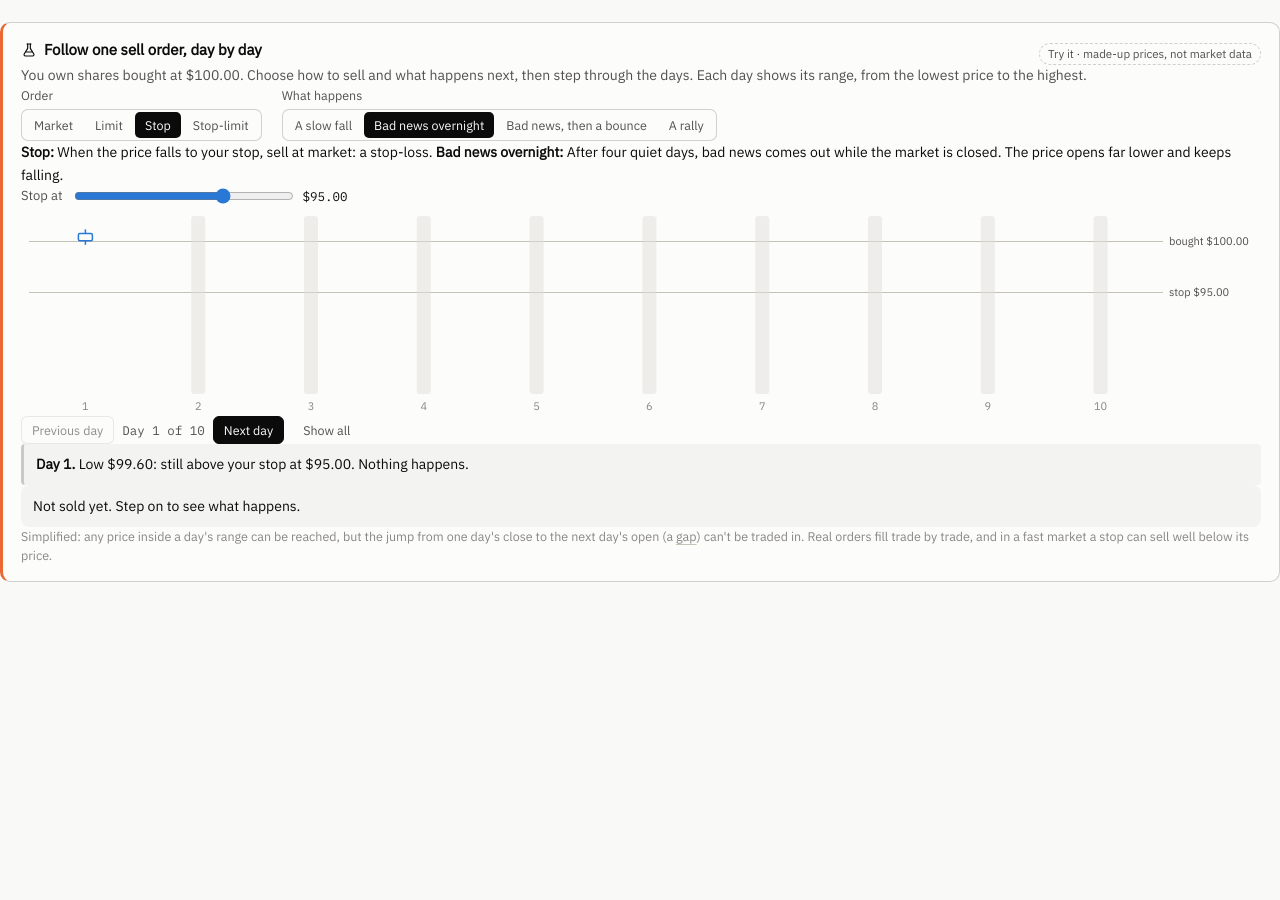
Test: following one sell order › a limit order waits for its price
What coordinates should you click on to do the following:
click the button "Limit"
I would click on:
 (109, 125)
Its box is left=85, top=112, right=133, bottom=138.
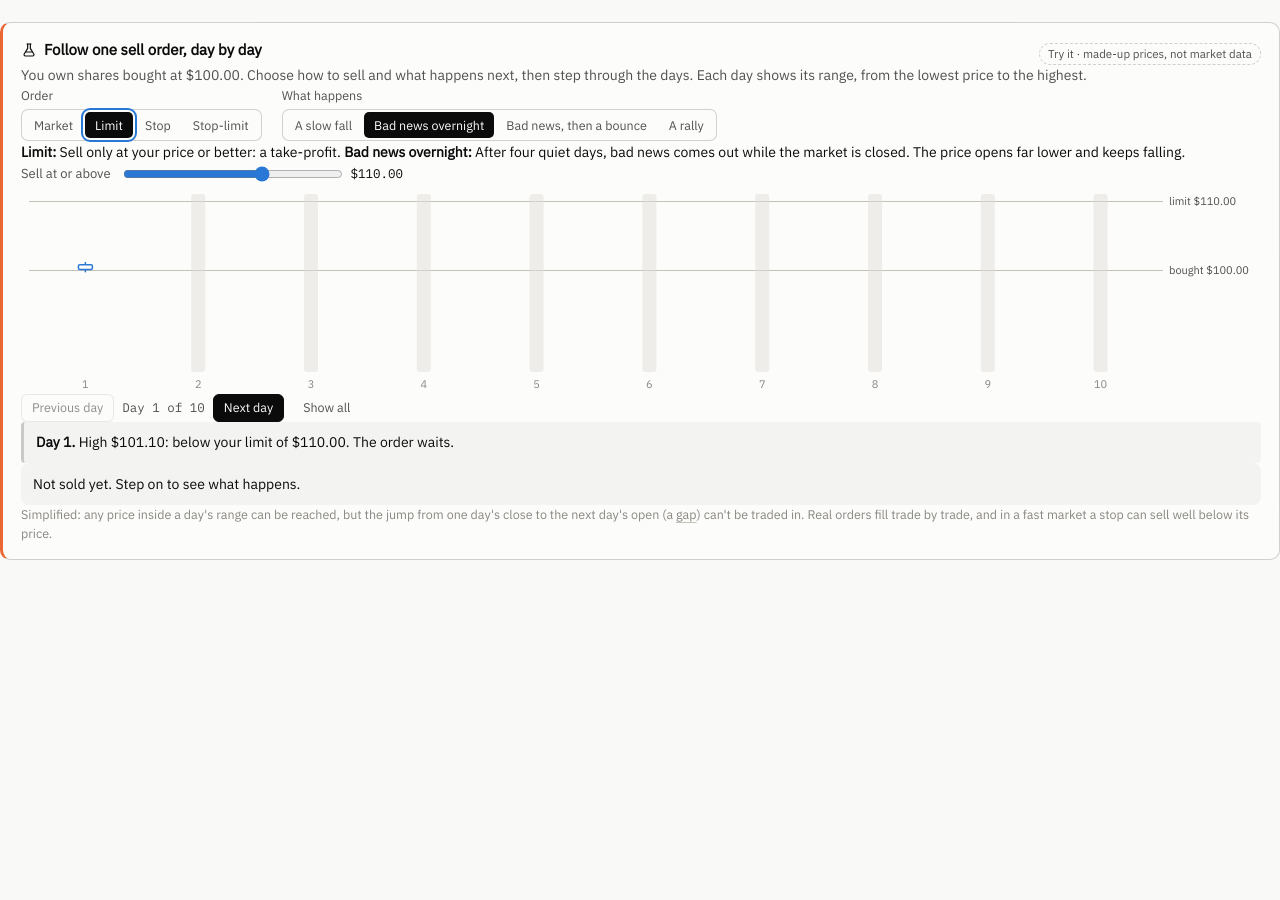
What coordinates should you click on to do the following:
click the button "A rally"
I would click on:
 (686, 125)
Its box is left=659, top=112, right=714, bottom=138.
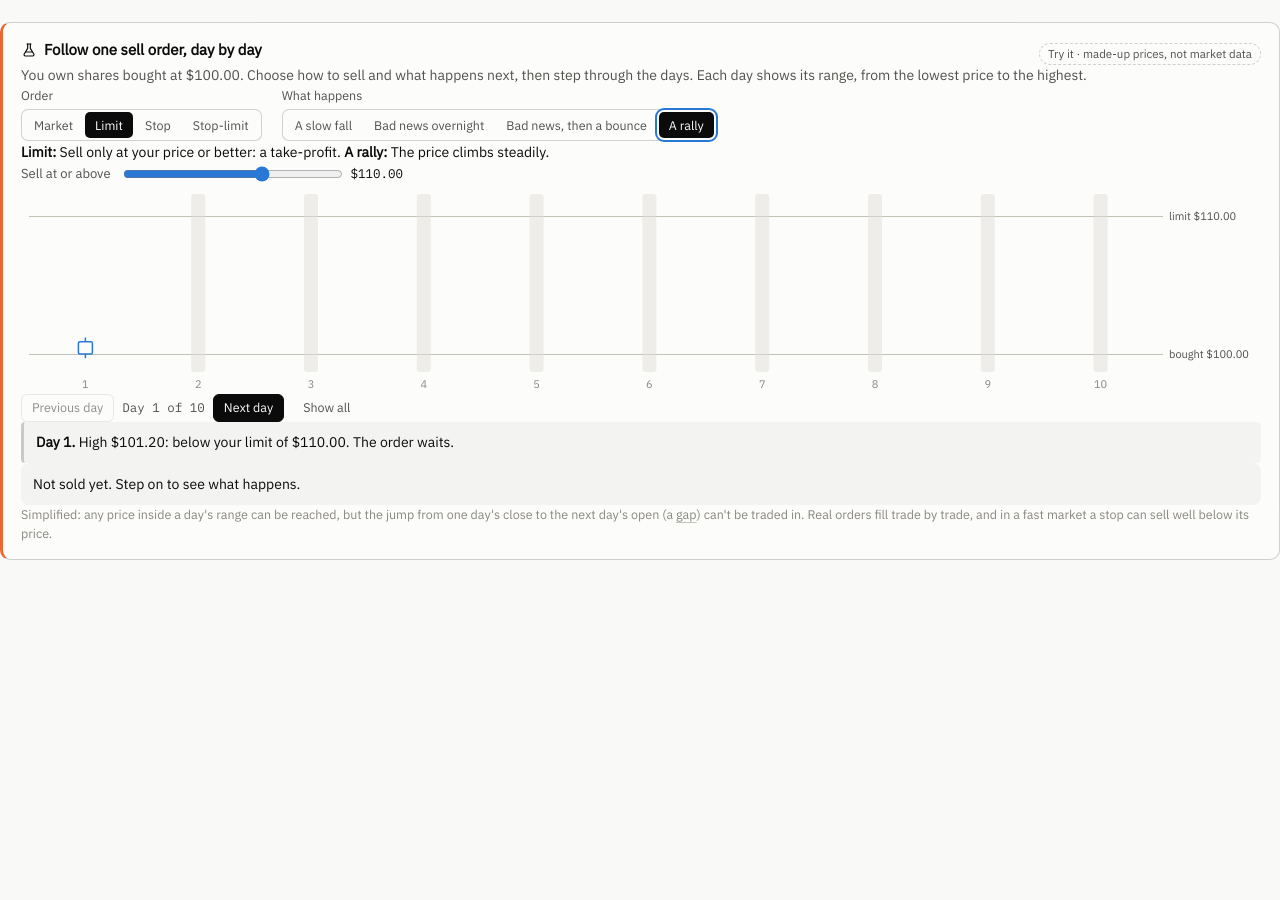
What coordinates should you click on to do the following:
click the button "Show all"
I would click on:
 (327, 408)
Its box is left=292, top=394, right=362, bottom=422.
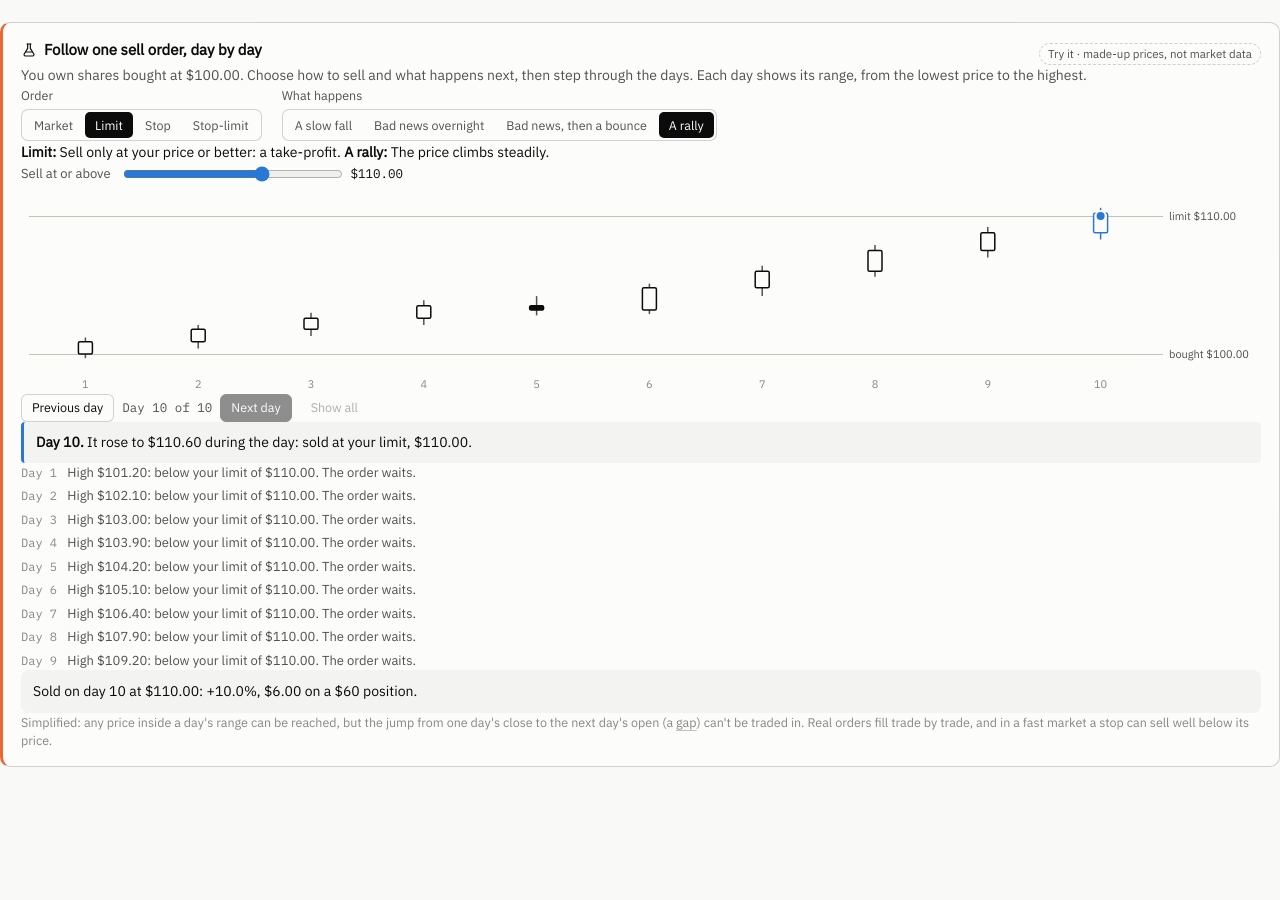
Expected: the text "Sold on day 10 at $110.00: +10.0%, $6.00 on a $60 position." is shown, left=21, top=670, right=1261, bottom=712
